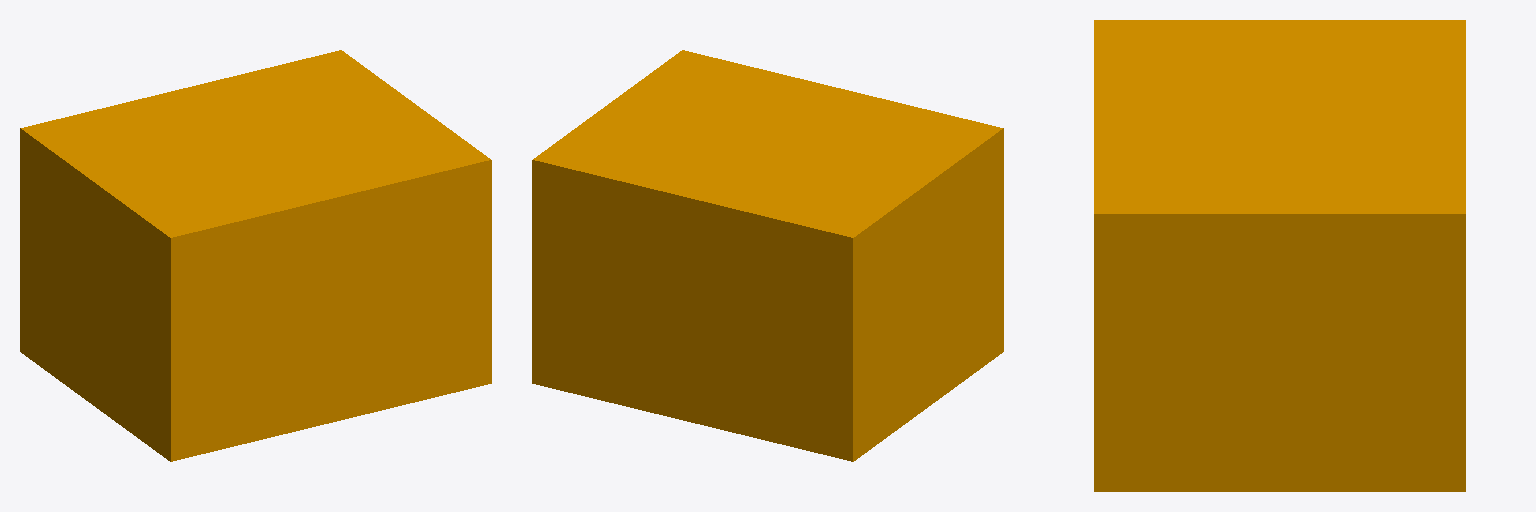
robot.urdf — 2x2:
<?xml version='1.0' encoding='UTF-8'?>
<robot name="2x2">
  <link name="base_link">
    <inertial>
      <origin xyz="0.0 0.0 0.0" rpy="0.0 0.0 0.0"/>
      <mass value="0.01"/>
      <inertia ixx="0.1" ixy="0.0" ixz="0.0" iyy="0.1" iyz="0.0" izz="0.1"/>
    </inertial>
    <visual>
      <geometry>
        <box size="0.021 0.017 0.014"/>
      </geometry>
      <material name=""/>
      <origin xyz="0.0 0.0 0.0" rpy="0.0 0.0 0.0"/>
    </visual>
    <collision>
      <geometry>
        <box size="0.021 0.017 0.014"/>
      </geometry>
      <origin xyz="0.0 0.0 0.0" rpy="0.0 0.0 0.0"/>
    </collision>
  </link>
  <material name="">
    <color rgba="0.64188536 0.44314051 0.36279185 1.        "/>
  </material>
  <contact>
    <lateral_friction value="1.0"/>
    <rolling_friction value="0.0"/>
    <contact_cfm value="0.0"/>
    <contact_erp value="1.0"/>
  </contact>
</robot>

--- Render facts (derived) ---
The picture shows the robot from 3 angles, left to right: view 1: azimuth 30°, elevation 25°; view 2: azimuth 150°, elevation 25°; view 3: azimuth 270°, elevation 25°; orthographic projection.
Model 2x2 with 1 links and 0 joints (none), rooted at base_link, posed all joints at 0.
Visible links, largest first — view 1: base_link; view 2: base_link; view 3: base_link.
Link boxes in pixels (x1,y1,x2,y2): base_link: (20, 50, 491, 461); base_link: (532, 50, 1003, 461); base_link: (1094, 20, 1465, 491).
Size in the robot's own frame: 0.021 by 0.017 by 0.014 metres.
Geometry: primitives only (box / cylinder / sphere), no mesh files.